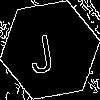J: (25, 25, 56, 75)
